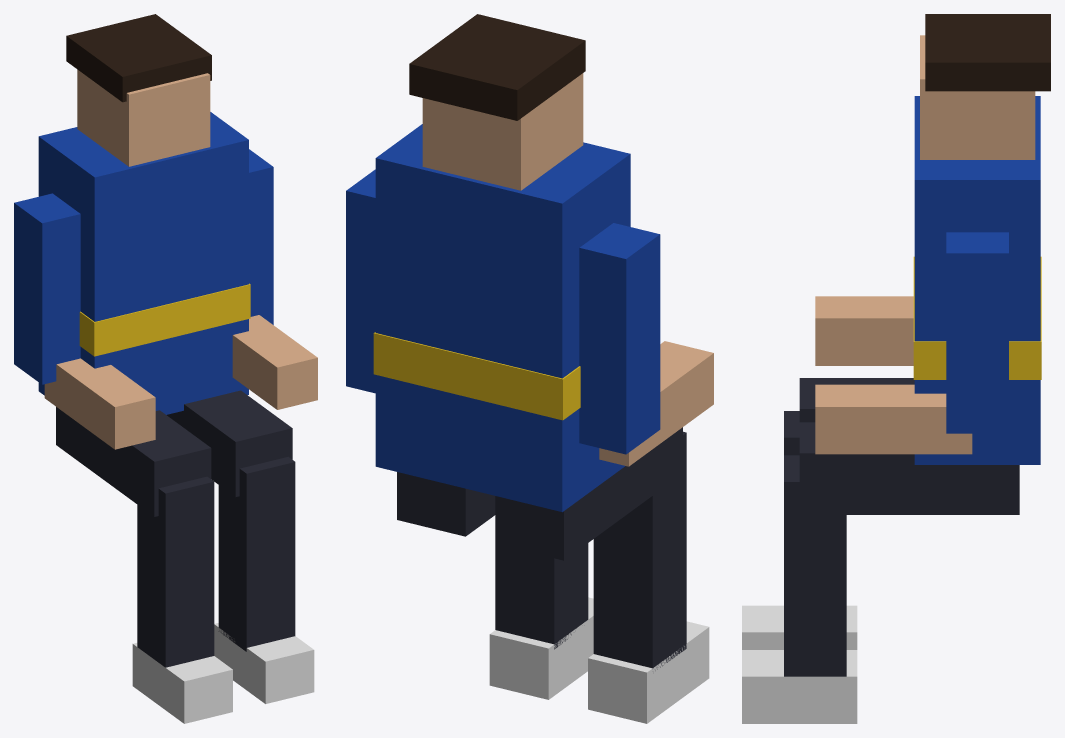
The model's file is aficionado_visita.obj.
The picture shows the model from 3 angles, left to right: view 1: azimuth 30°, elevation 25°; view 2: azimuth 150°, elevation 25°; view 3: azimuth 270°, elevation 25°; orthographic projection. The views are drawn at different scales.
Visible parts, largest first — view 1: aficionado_visita; view 2: aficionado_visita; view 3: aficionado_visita.
Boxes of the visible parts, x1=… form: aficionado_visita: x1=14, y1=14, x2=317, y2=723; aficionado_visita: x1=346, y1=14, x2=713, y2=723; aficionado_visita: x1=742, y1=14, x2=1050, y2=723.
Size of the model in its own units: 0.57 by 1.37 by 0.59.
Materials: 1 (1 with a texture image).
